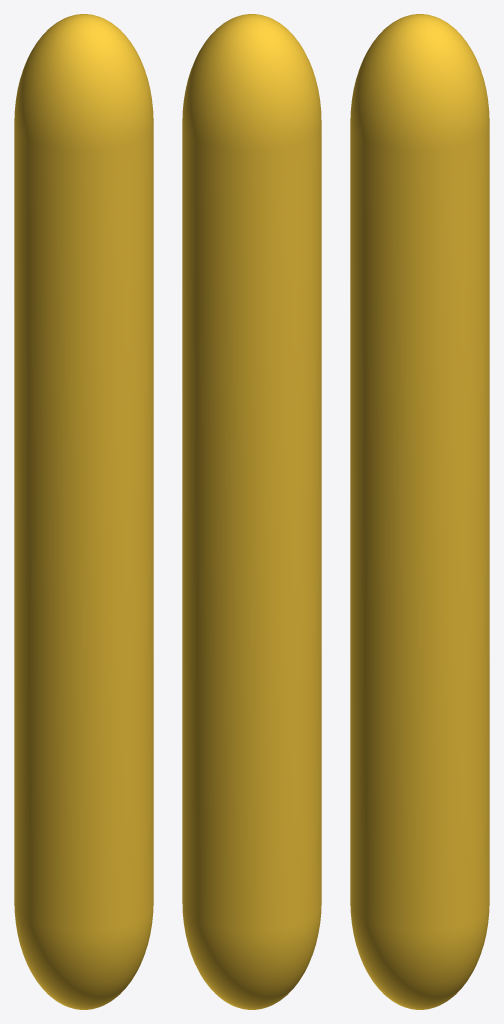
File: yellow-staff.glb
3 views of the same model, side by side, from view 1: azimuth 90°, elevation 25°; view 2: azimuth 150°, elevation 25°; view 3: azimuth 270°, elevation 25° (orthographic).
Parts seen in each view (by area): view 1: YellowStaff; view 2: YellowStaff; view 3: YellowStaff.
Part boxes in pixels (x1,y1,x2,y2): YellowStaff: [14, 14, 153, 1009]; YellowStaff: [182, 14, 321, 1009]; YellowStaff: [350, 14, 489, 1009].
Bounding box in the file's own units: 0.23 × 1.8 × 0.23.
